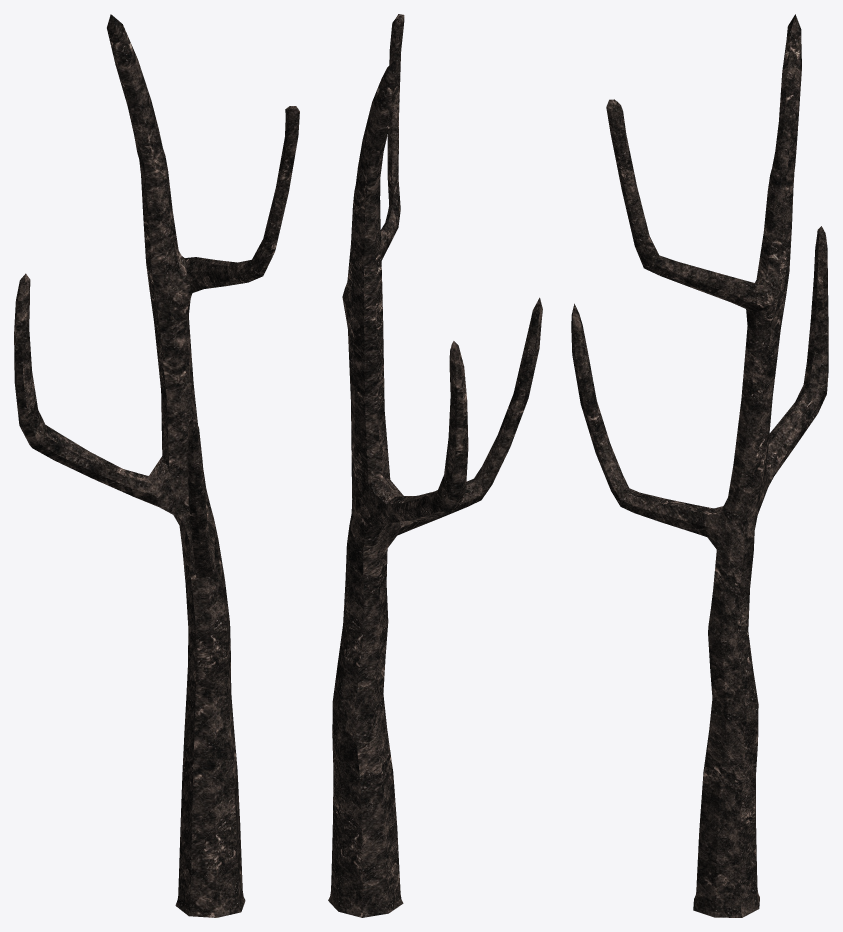
The model's file is arvore_morta_a.glb.
3 renders of one model, left to right at view 1: azimuth 30°, elevation 25°; view 2: azimuth 150°, elevation 25°; view 3: azimuth 270°, elevation 25°, orthographic. The views are drawn at different scales.
Parts seen in each view (by area): view 1: CommonTree_Dead_3_Cube.106; view 2: CommonTree_Dead_3_Cube.106; view 3: CommonTree_Dead_3_Cube.106.
Boxes of the visible parts, <box> form: CommonTree_Dead_3_Cube.106: <box>14,14,299,917</box>; CommonTree_Dead_3_Cube.106: <box>328,14,542,917</box>; CommonTree_Dead_3_Cube.106: <box>571,14,828,917</box>.
Bounding box in the file's own units: 0.6352 × 3 × 0.8125.
1 material, 1 textured.
